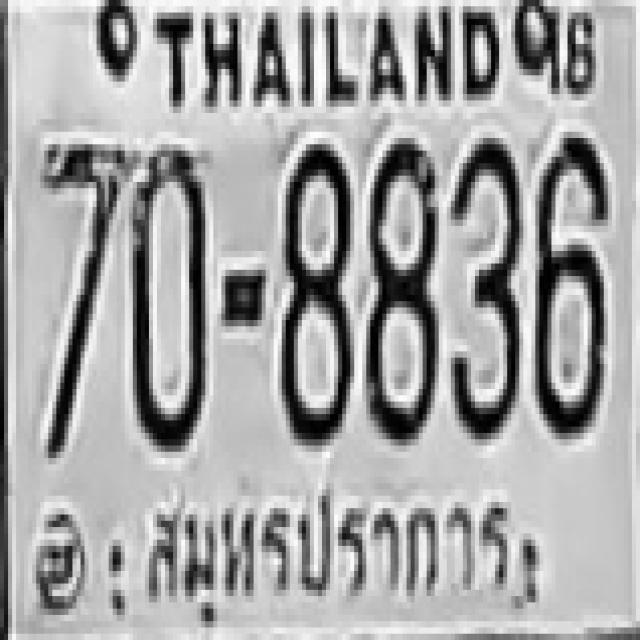0: (131, 144, 207, 446)
3: (447, 132, 519, 433)
6: (531, 132, 604, 433)
7: (40, 138, 129, 452)
8: (364, 132, 437, 439), (278, 138, 350, 439)
SamutPrakan: (138, 483, 522, 627)
